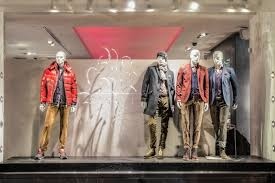person-like: (32, 49, 81, 162), (137, 49, 178, 161), (173, 47, 211, 163), (205, 48, 243, 161)
